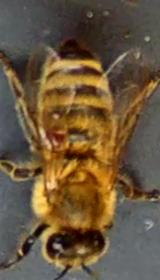varroa_mite: (36, 123, 70, 151)
